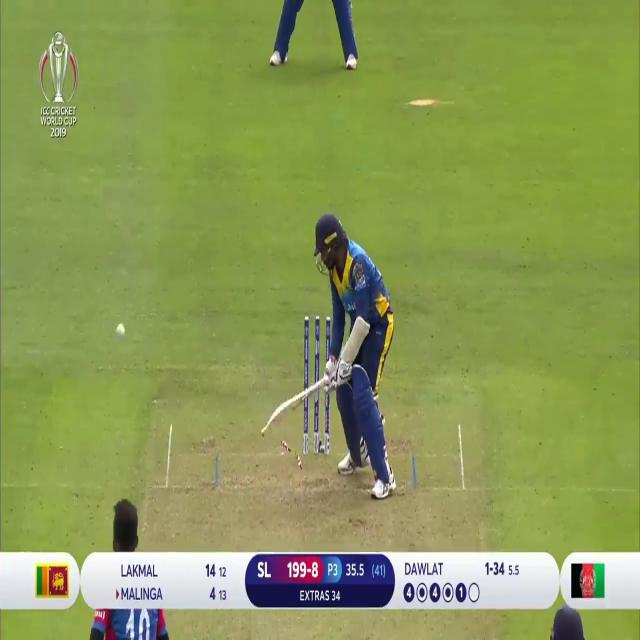ball: (115, 322, 127, 341)
